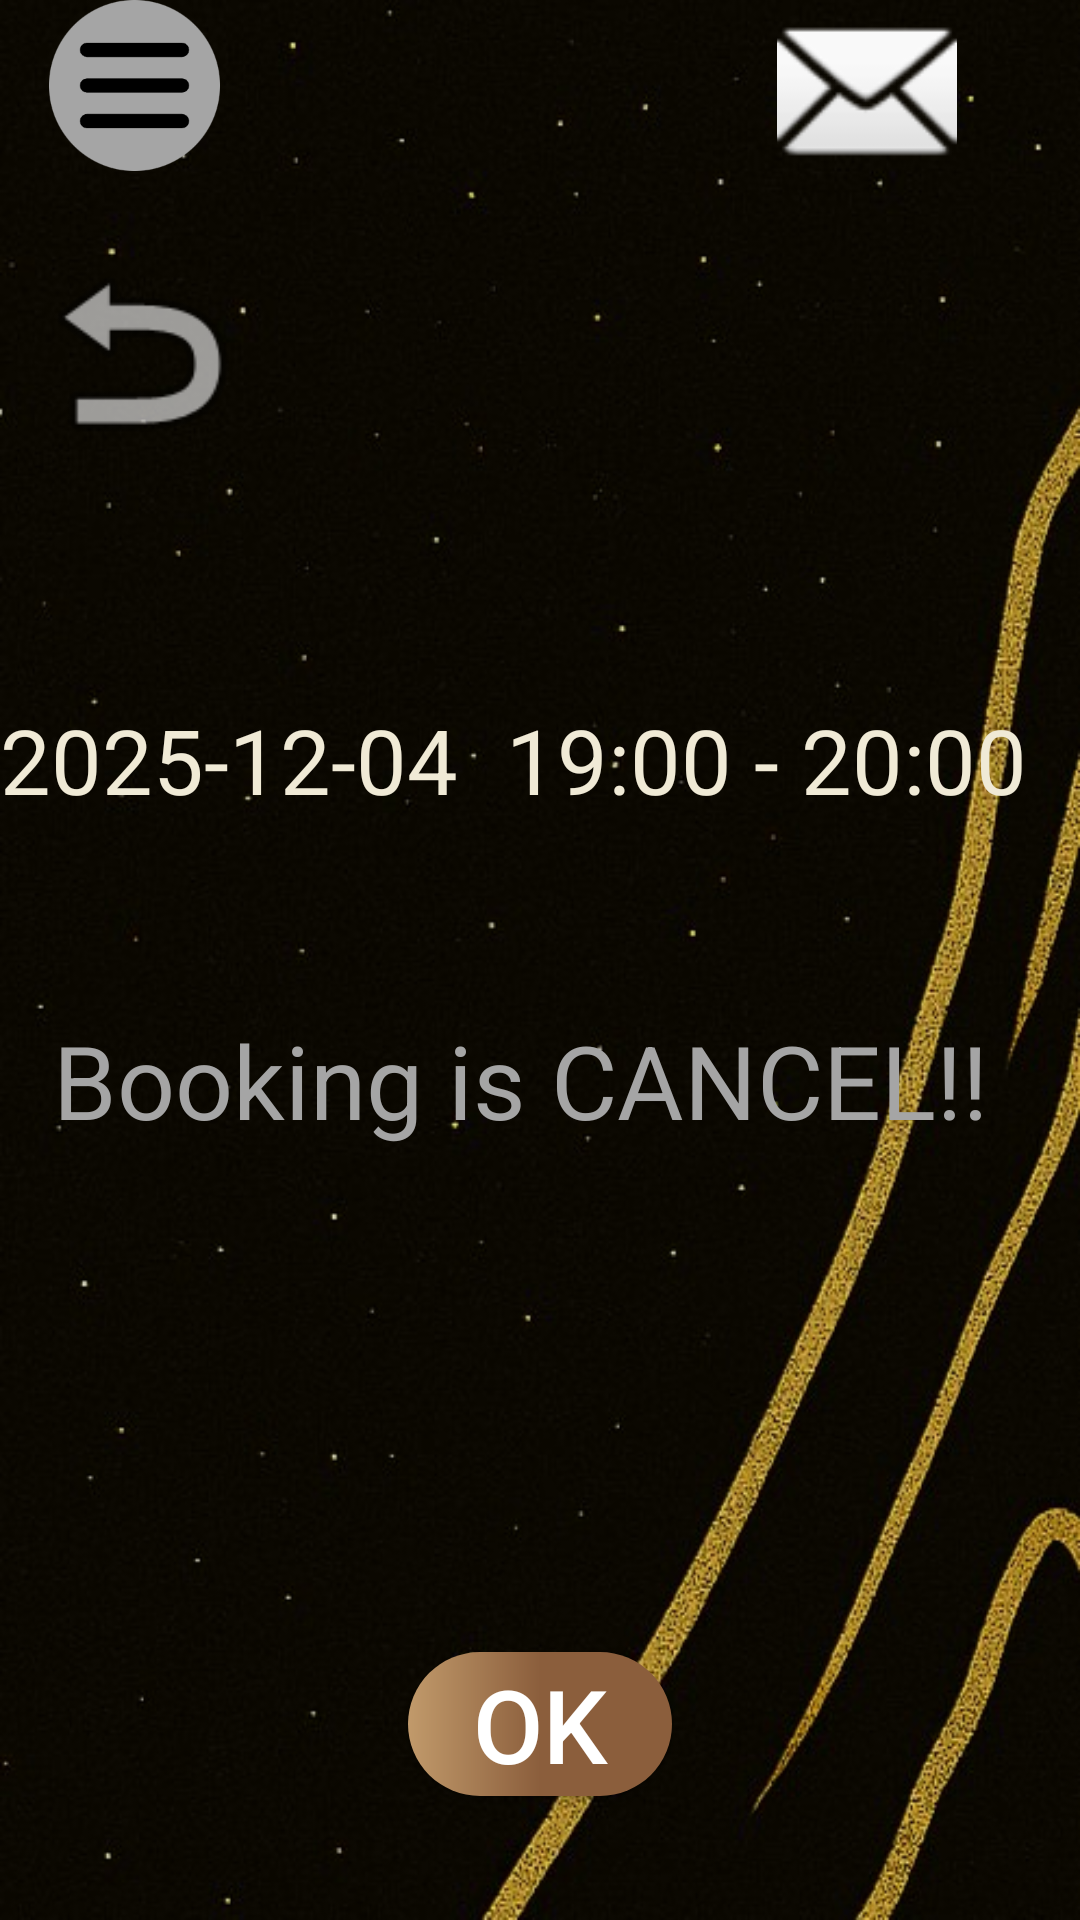

Screen size 1080px x 1920px. Icon name, then its center in pixels as [x,y]:
burger menu: [134,85]
email: [854,91]
revert: [155,336]
